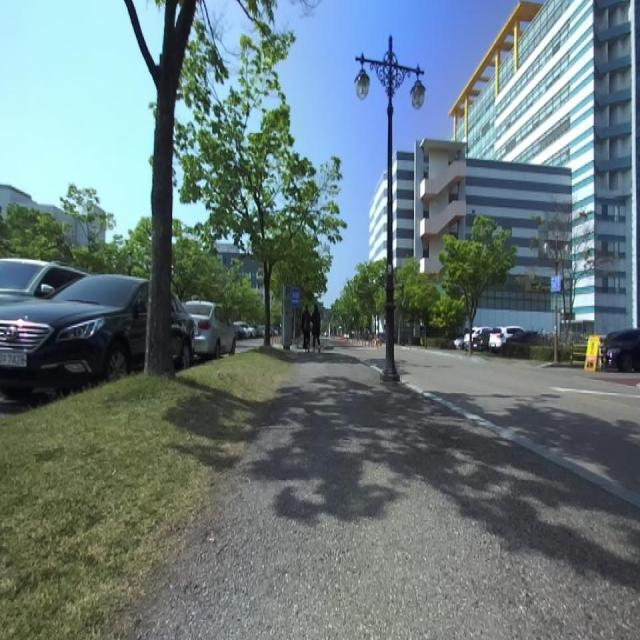sidewalk: (128, 350, 640, 639)
